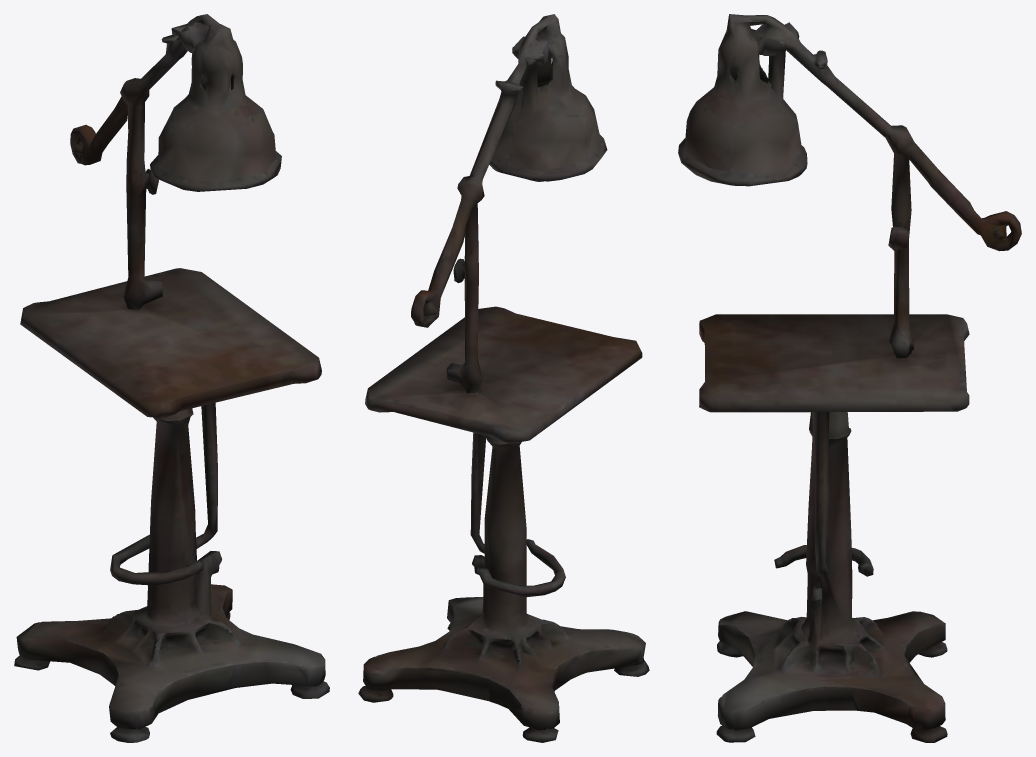
Rendered from sturdy-iron-operating-table-v001.glb.
3 views of the same model, side by side, from view 1: azimuth 30°, elevation 25°; view 2: azimuth 150°, elevation 25°; view 3: azimuth 270°, elevation 25° (orthographic). The views are drawn at different scales.
Visible parts, largest first — view 1: sturdy-iron-operating-table; view 2: sturdy-iron-operating-table; view 3: sturdy-iron-operating-table.
Boxes of the visible parts, box(x1,y1,x2,y2) form: sturdy-iron-operating-table: box(14, 14, 329, 742); sturdy-iron-operating-table: box(358, 14, 649, 742); sturdy-iron-operating-table: box(678, 14, 1021, 742).
Size of the model in its own units: 0.2978 by 0.9174 by 0.4217.
Materials: 1 (1 with a texture image).
